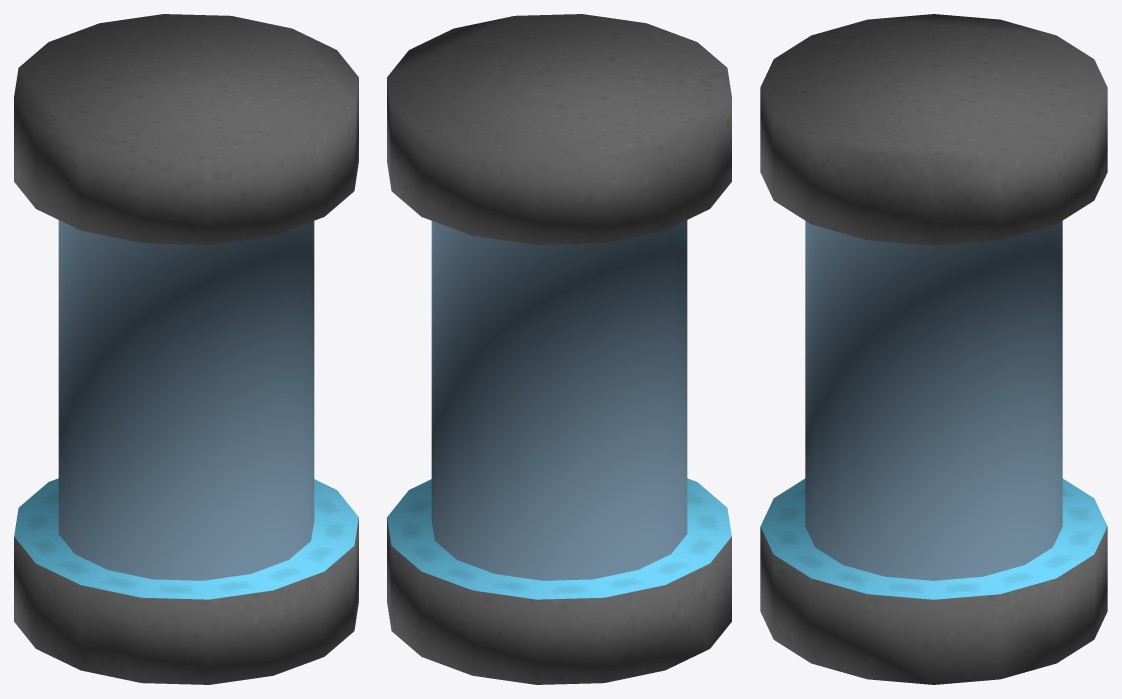
The model's file is medical.obj.
The picture shows the model from 3 angles, left to right: view 1: azimuth 30°, elevation 25°; view 2: azimuth 150°, elevation 25°; view 3: azimuth 270°, elevation 25°; orthographic projection.
Parts seen in each view (by area): view 1: medical_medical_auv; view 2: medical_medical_auv; view 3: medical_medical_auv.
Part boxes in pixels (x1=…): medical_medical_auv: x1=14, y1=14, x2=358, y2=684; medical_medical_auv: x1=387, y1=14, x2=731, y2=684; medical_medical_auv: x1=760, y1=14, x2=1107, y2=684.
Size of the model in its own units: 0.9 by 1.5 by 0.9.
2 materials, 1 textured.
